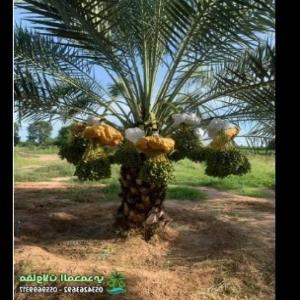palm tree: (12, 0, 275, 241)
